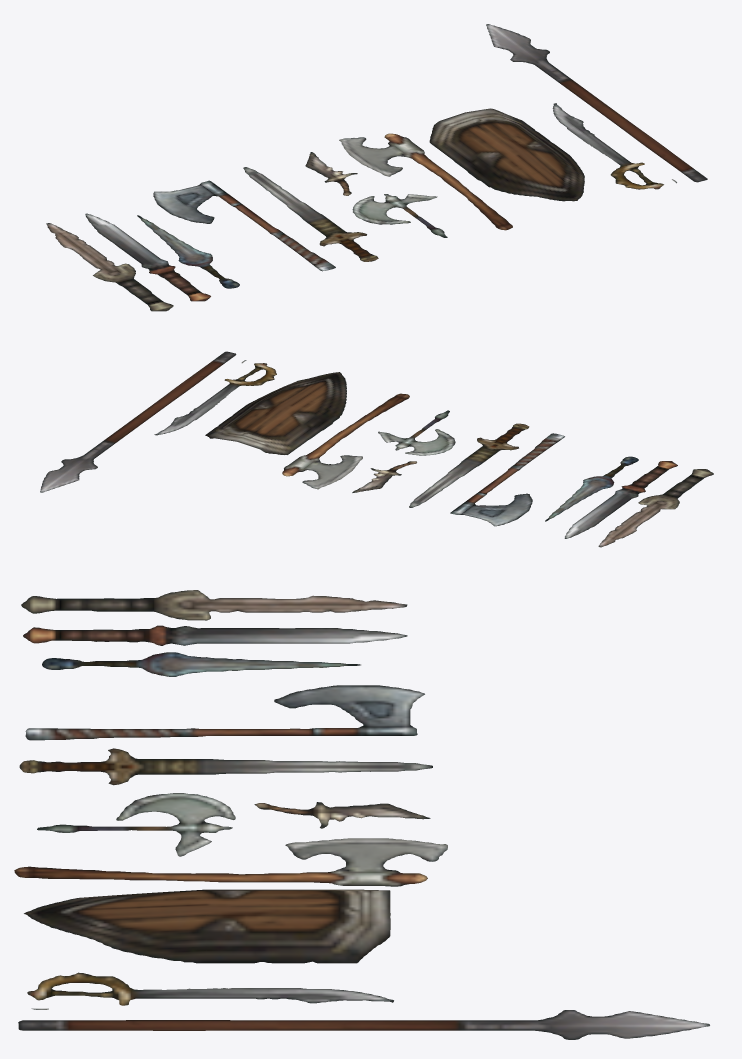
The model's file is 2_YiZhan_WUqi_01.FBX.
The picture shows the model from 3 angles, top to bottom: view 1: azimuth 30°, elevation 25°; view 2: azimuth 150°, elevation 25°; view 3: azimuth 270°, elevation 25°; orthographic projection. The views are drawn at different scales.
Parts seen in each view (by area): view 1: 2_YiZhan_WUqi_09, 2_YiZhan_WUqi_11, 2_YiZhan_WUqi_08, 2_YiZhan_WUqi_04, 2_YiZhan_WUqi_01, 2_YiZhan_WUqi_05, 2_YiZhan_WUqi_02, 2_YiZhan_WUqi_10, 2_YiZhan_WUqi_07, 2_YiZhan_WUqi_03, 2_YiZhan_WUqi_06; view 2: 2_YiZhan_WUqi_09, 2_YiZhan_WUqi_11, 2_YiZhan_WUqi_08, 2_YiZhan_WUqi_04, 2_YiZhan_WUqi_01, 2_YiZhan_WUqi_05, 2_YiZhan_WUqi_02, 2_YiZhan_WUqi_10, 2_YiZhan_WUqi_07, 2_YiZhan_WUqi_03, 2_YiZhan_WUqi_06; view 3: 2_YiZhan_WUqi_09, 2_YiZhan_WUqi_11, 2_YiZhan_WUqi_08, 2_YiZhan_WUqi_04, 2_YiZhan_WUqi_01, 2_YiZhan_WUqi_05, 2_YiZhan_WUqi_02, 2_YiZhan_WUqi_10, 2_YiZhan_WUqi_07, 2_YiZhan_WUqi_03, 2_YiZhan_WUqi_06.
Boxes of the visible parts, x1,y1,x2,y2 form: 2_YiZhan_WUqi_09: [429, 108, 584, 201]; 2_YiZhan_WUqi_11: [486, 24, 707, 183]; 2_YiZhan_WUqi_08: [339, 133, 512, 230]; 2_YiZhan_WUqi_04: [153, 180, 335, 271]; 2_YiZhan_WUqi_01: [46, 223, 173, 311]; 2_YiZhan_WUqi_05: [243, 167, 378, 261]; 2_YiZhan_WUqi_02: [85, 213, 210, 301]; 2_YiZhan_WUqi_10: [552, 103, 663, 189]; 2_YiZhan_WUqi_07: [352, 194, 447, 237]; 2_YiZhan_WUqi_03: [137, 215, 239, 288]; 2_YiZhan_WUqi_06: [305, 152, 357, 195]; 2_YiZhan_WUqi_09: [205, 372, 346, 454]; 2_YiZhan_WUqi_11: [40, 351, 246, 492]; 2_YiZhan_WUqi_08: [282, 393, 409, 489]; 2_YiZhan_WUqi_04: [450, 433, 564, 526]; 2_YiZhan_WUqi_01: [598, 469, 713, 547]; 2_YiZhan_WUqi_05: [409, 423, 529, 507]; 2_YiZhan_WUqi_02: [564, 461, 677, 538]; 2_YiZhan_WUqi_10: [154, 363, 276, 435]; 2_YiZhan_WUqi_07: [378, 410, 455, 455]; 2_YiZhan_WUqi_03: [545, 456, 638, 521]; 2_YiZhan_WUqi_06: [352, 461, 416, 492]; 2_YiZhan_WUqi_09: [24, 889, 390, 963]; 2_YiZhan_WUqi_11: [18, 1008, 709, 1039]; 2_YiZhan_WUqi_08: [14, 838, 447, 886]; 2_YiZhan_WUqi_04: [25, 685, 424, 740]; 2_YiZhan_WUqi_01: [21, 590, 407, 620]; 2_YiZhan_WUqi_05: [19, 748, 432, 785]; 2_YiZhan_WUqi_02: [23, 625, 407, 645]; 2_YiZhan_WUqi_10: [27, 972, 393, 1005]; 2_YiZhan_WUqi_07: [37, 793, 235, 856]; 2_YiZhan_WUqi_03: [42, 652, 360, 676]; 2_YiZhan_WUqi_06: [254, 802, 430, 828].
Bounding box in the file's own units: 442 × 10.18 × 293.
